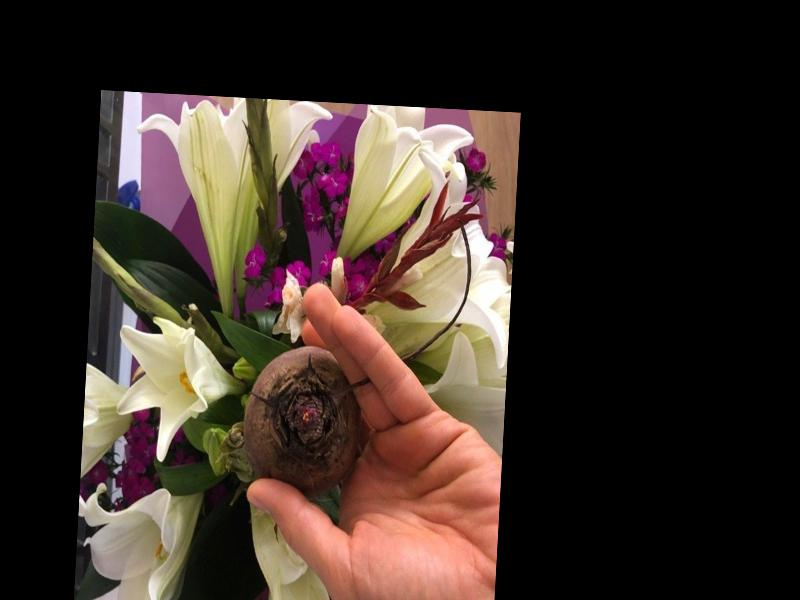Beet: (239, 340, 368, 497)
